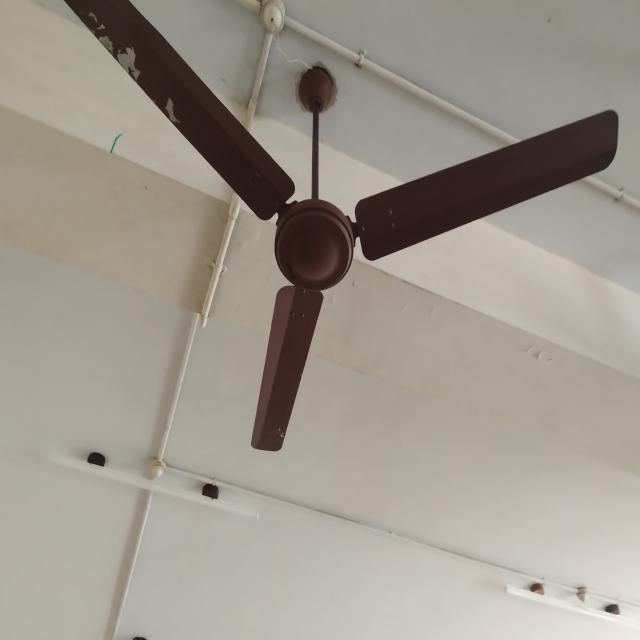fan_off: (61, 0, 618, 452)
